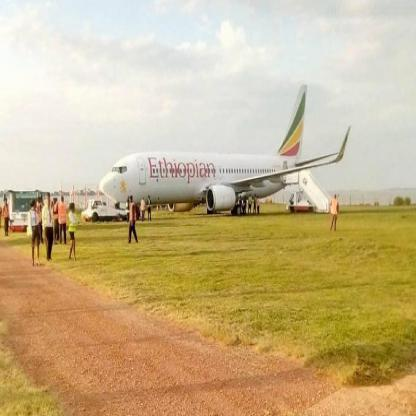CIV_Plane: (95, 81, 352, 221)
